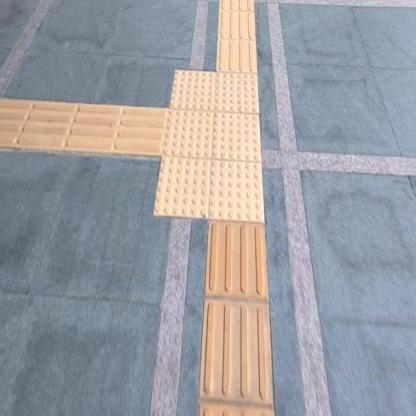podotacti: (138, 47, 284, 250), (200, 225, 275, 415), (0, 99, 161, 158), (215, 0, 256, 71)
